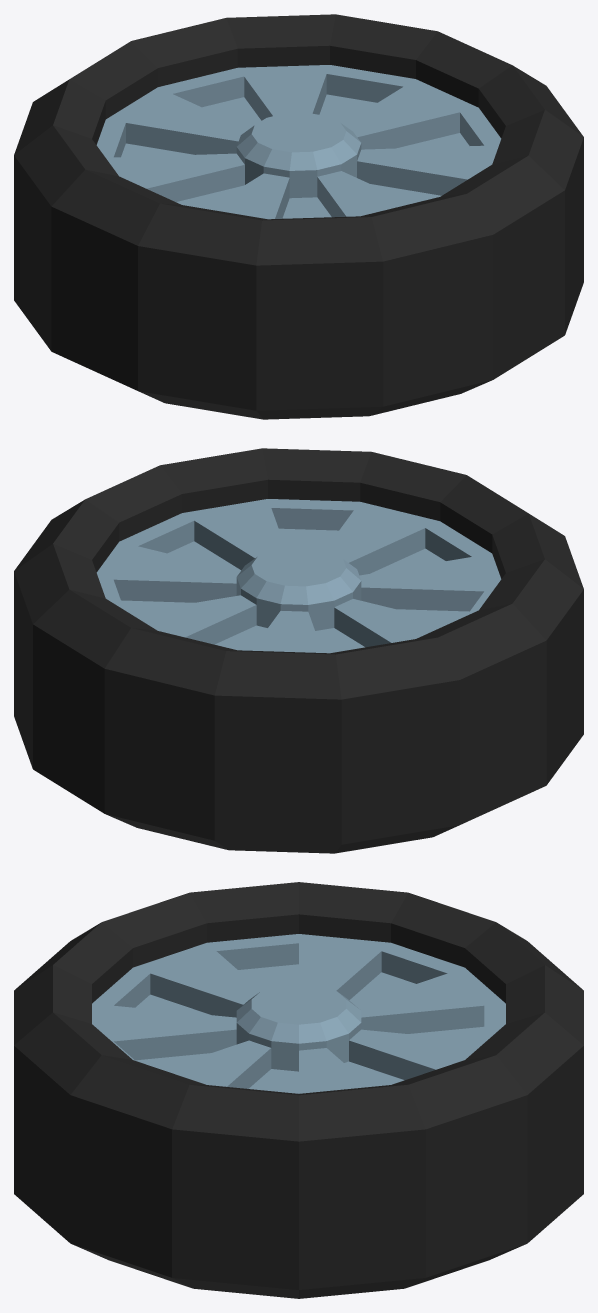
File: tyre.fbx
3 views of the same model, one above another, from view 1: azimuth 30°, elevation 25°; view 2: azimuth 150°, elevation 25°; view 3: azimuth 270°, elevation 25° (orthographic). The views are drawn at different scales.
Visible parts, largest first — view 1: polySurface33; view 2: polySurface33; view 3: polySurface33.
Part boxes in pixels (x1=…): polySurface33: x1=14, y1=14, x2=583, y2=419; polySurface33: x1=14, y1=448, x2=583, y2=853; polySurface33: x1=14, y1=882, x2=583, y2=1298.
Size of the model in its own units: 0.7865 by 0.3077 by 0.7668.
